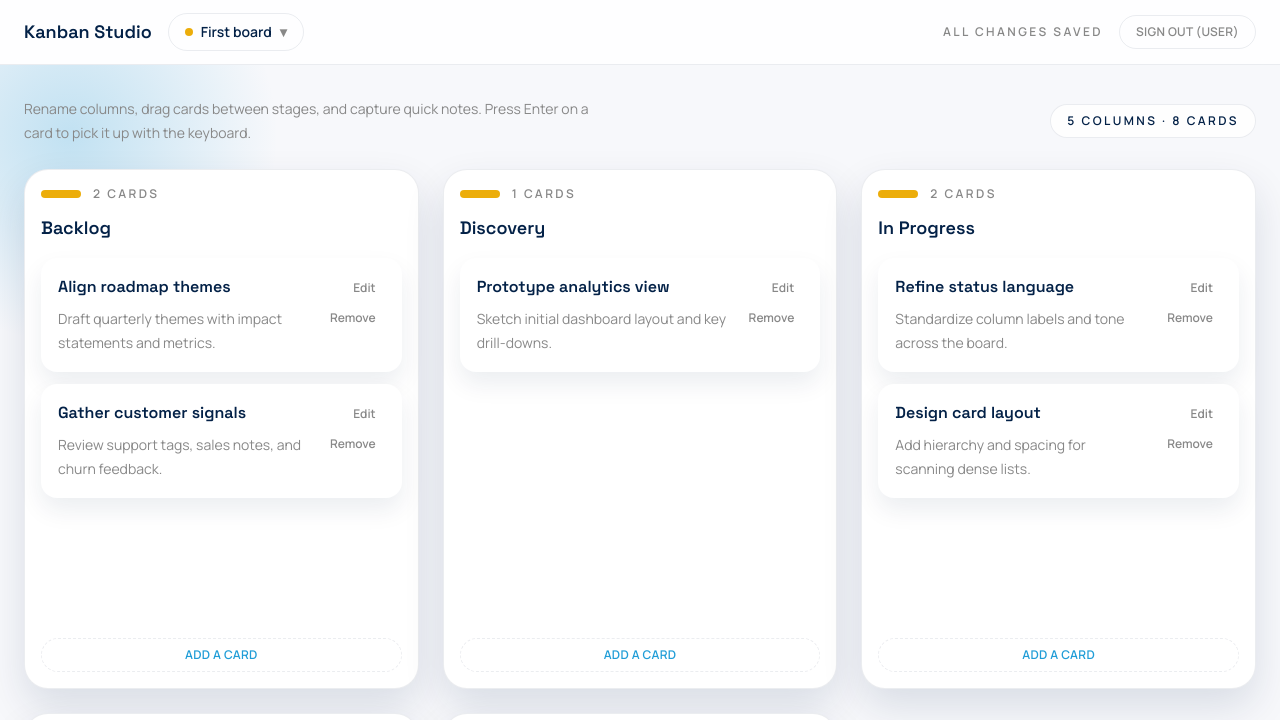
chat sidebar › edits a card inline and sends the change in a PUT
Expected: the heading "Kanban Studio" is shown, [24, 18, 152, 46]
Step 1. Click the 1st button "edit " → [364, 288], box [344, 275, 385, 301]
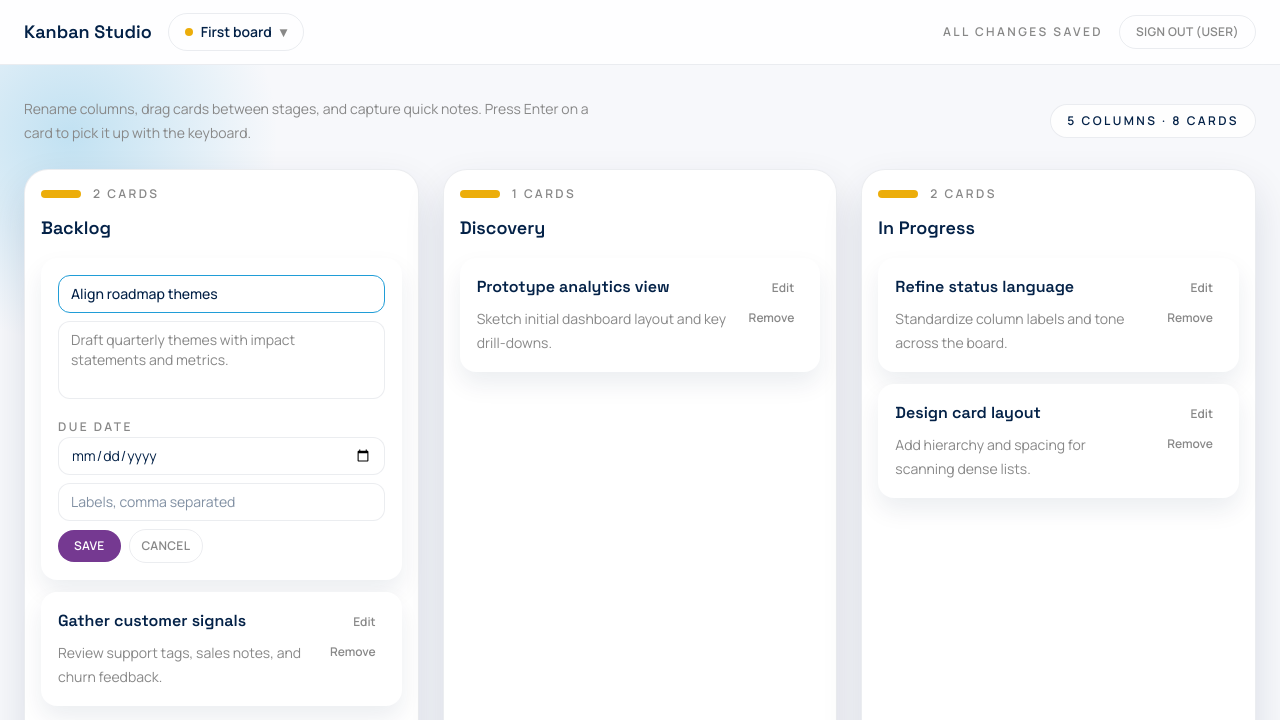
Step 2. Replace the text in the field named "Card title" with "Edited title" → [221, 294], box [58, 275, 385, 313]
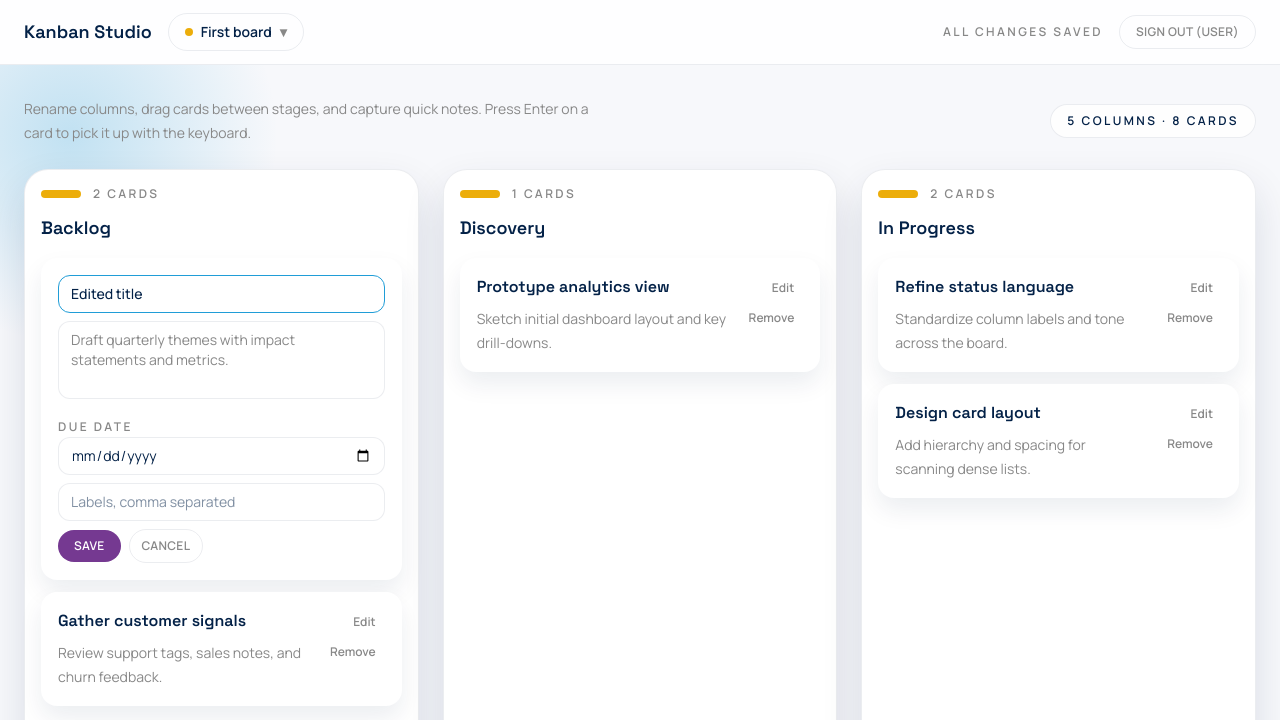
Step 3. Click the button "Save" → [89, 546], box [58, 530, 120, 562]
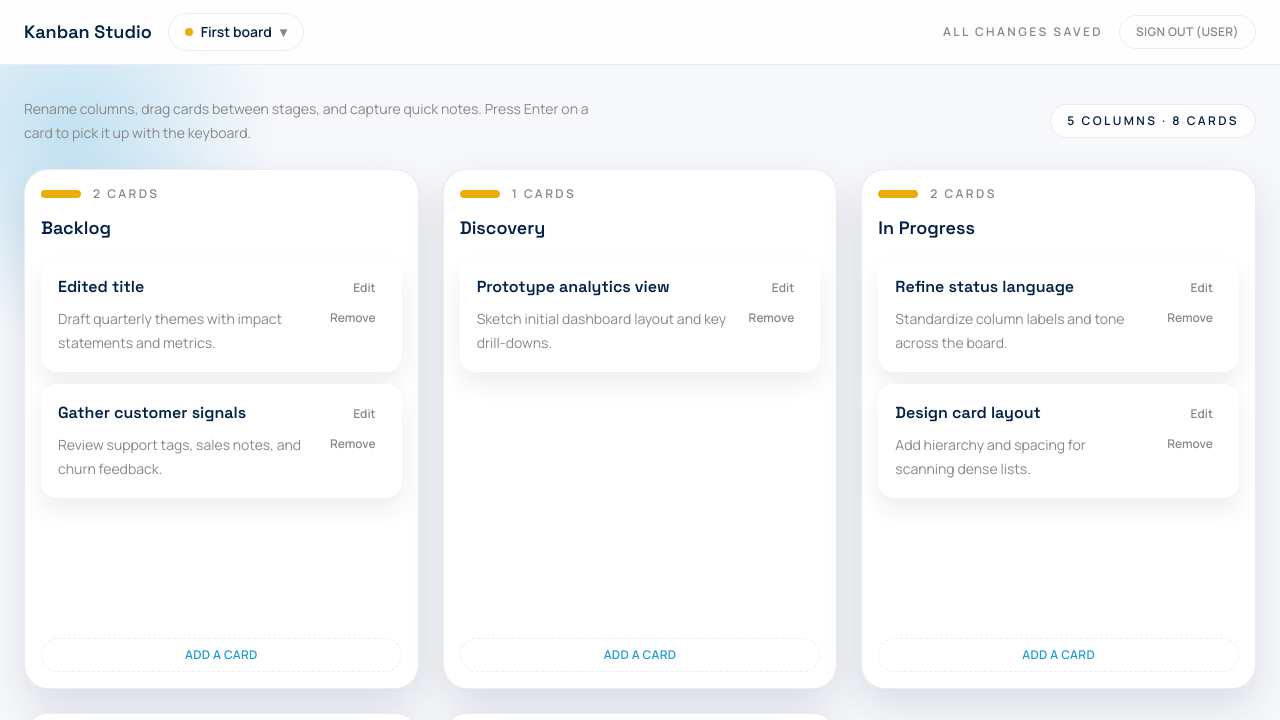
Expected: the heading "Edited title" is shown, [58, 276, 144, 297]
